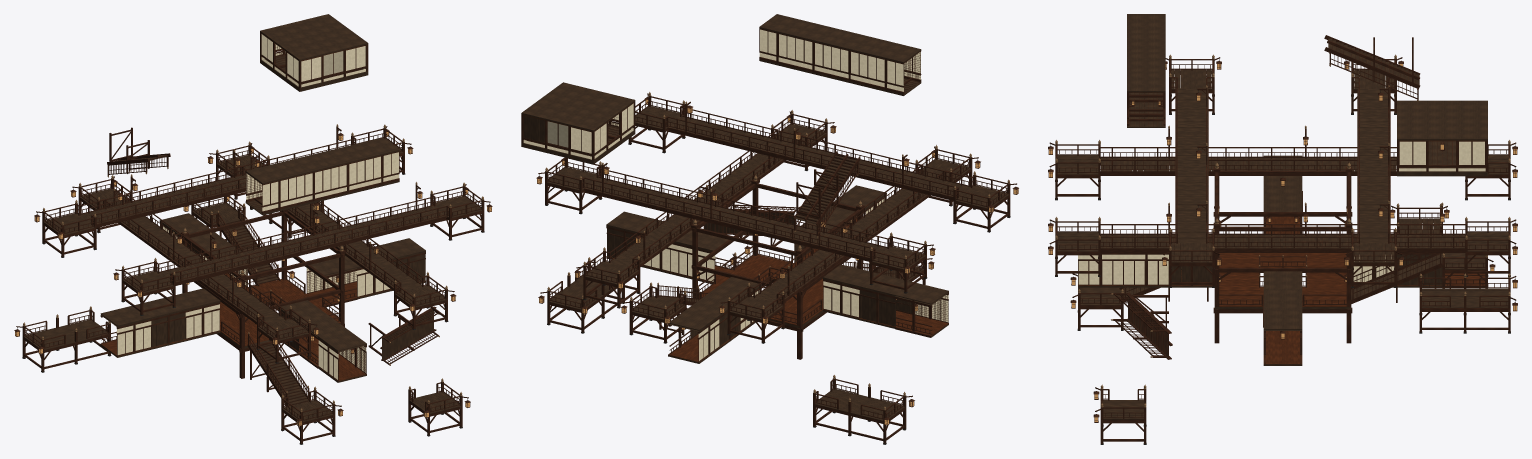
The model's file is infinite_crossroads.glb.
The picture shows the model from 3 angles, left to right: view 1: azimuth 30°, elevation 25°; view 2: azimuth 150°, elevation 25°; view 3: azimuth 270°, elevation 25°; orthographic projection. The views are drawn at different scales.
Visible parts, largest first — view 1: IC13_Infinite_Crossroads__Hub, IC13_InvRoom_066__Geo__Shell, IC13_Suspended_058__Mesh, IC13_StairDown_015__Mesh, IC13_WallStair_065__Geo__Mesh, IC13_BalconyTop_046__Mesh, IC13_BalconyTop_056__Mesh, IC13_BalconyDown_016__Mesh, IC13_Suspended_059__Mesh, IC13_CorridorW_008__Shell, IC13_BalconyHigh_026__Mesh, IC13_BalconyHigh_036__Mesh (+42 smaller); view 2: IC13_Infinite_Crossroads__Hub, IC13_InvRoom_066__Geo__Shell, IC13_Suspended_058__Mesh, IC13_InvStair_060__Geo__Mesh, IC13_CorridorW_008__Shell, IC13_Suspended_057__Mesh, IC13_BalconyTop_046__Mesh, IC13_BalconyHigh_025__Mesh, IC13_BalconyTop_056__Mesh, IC13_BalconyHigh_035__Mesh, IC13_BalconyTop_055__Mesh, IC13_CorridorN_009__Shell (+44 smaller); view 3: IC13_Infinite_Crossroads__Hub, IC13_InvRoom_066__Geo__Shell, IC13_Suspended_057__Mesh, IC13_InvStair_060__Geo__Mesh, IC13_WallStair_065__Geo__Mesh, IC13_CorridorE_011__Shell, IC13_StairUp_013__Mesh, IC13_InvCorridor_064__Geo__Shell, IC13_BalconyHigh_026__Mesh, IC13_BalconyHigh_036__Mesh, IC13_BalconyHigh_035__Mesh, IC13_Suspended_059__Mesh (+50 smaller).
Boxes of the visible parts, box(x1,y1,x2,y2) form: IC13_Infinite_Crossroads__Hub: box(181, 209, 345, 378); IC13_InvRoom_066__Geo__Shell: box(260, 14, 368, 91); IC13_Suspended_058__Mesh: box(16, 306, 111, 372); IC13_StairDown_015__Mesh: box(247, 332, 311, 407); IC13_WallStair_065__Geo__Mesh: box(368, 306, 439, 365); IC13_BalconyTop_046__Mesh: box(115, 258, 175, 315); IC13_BalconyTop_056__Mesh: box(36, 200, 96, 257); IC13_BalconyDown_016__Mesh: box(281, 386, 341, 444); IC13_Suspended_059__Mesh: box(408, 378, 468, 436); IC13_CorridorW_008__Shell: box(135, 297, 185, 349); IC13_BalconyHigh_026__Mesh: box(256, 305, 317, 363); IC13_BalconyHigh_036__Mesh: box(393, 272, 454, 329); IC13_Infinite_Crossroads__Hub: box(691, 175, 864, 359); IC13_InvRoom_066__Geo__Shell: box(521, 82, 635, 164); IC13_Suspended_058__Mesh: box(813, 375, 912, 444); IC13_InvStair_060__Geo__Mesh: box(793, 151, 860, 237); IC13_CorridorW_008__Shell: box(859, 273, 912, 328); IC13_Suspended_057__Mesh: box(540, 257, 624, 333); IC13_BalconyTop_046__Mesh: box(953, 171, 1016, 232); IC13_BalconyHigh_025__Mesh: box(721, 282, 784, 343); IC13_BalconyTop_056__Mesh: box(869, 232, 933, 293); IC13_BalconyHigh_035__Mesh: box(576, 247, 640, 308); IC13_BalconyTop_055__Mesh: box(538, 157, 602, 214); IC13_CorridorN_009__Shell: box(668, 307, 719, 363); IC13_Infinite_Crossroads__Hub: box(1213, 162, 1352, 343); IC13_InvRoom_066__Geo__Shell: box(1397, 100, 1487, 176); IC13_Suspended_057__Mesh: box(1419, 273, 1516, 333); IC13_InvStair_060__Geo__Mesh: box(1324, 35, 1420, 100); IC13_WallStair_065__Geo__Mesh: box(1110, 292, 1172, 359); IC13_CorridorE_011__Shell: box(1263, 309, 1302, 365); IC13_StairUp_013__Mesh: box(1351, 253, 1442, 303); IC13_InvCorridor_064__Geo__Shell: box(1127, 71, 1165, 127); IC13_BalconyHigh_026__Mesh: box(1049, 140, 1100, 200); IC13_BalconyHigh_036__Mesh: box(1049, 217, 1100, 276); IC13_BalconyHigh_035__Mesh: box(1465, 217, 1516, 276); IC13_Suspended_059__Mesh: box(1095, 384, 1146, 444).
Size of the model in its own units: 41.28 by 31.51 by 41.28.
Materials: 10 (7 with a texture image).
